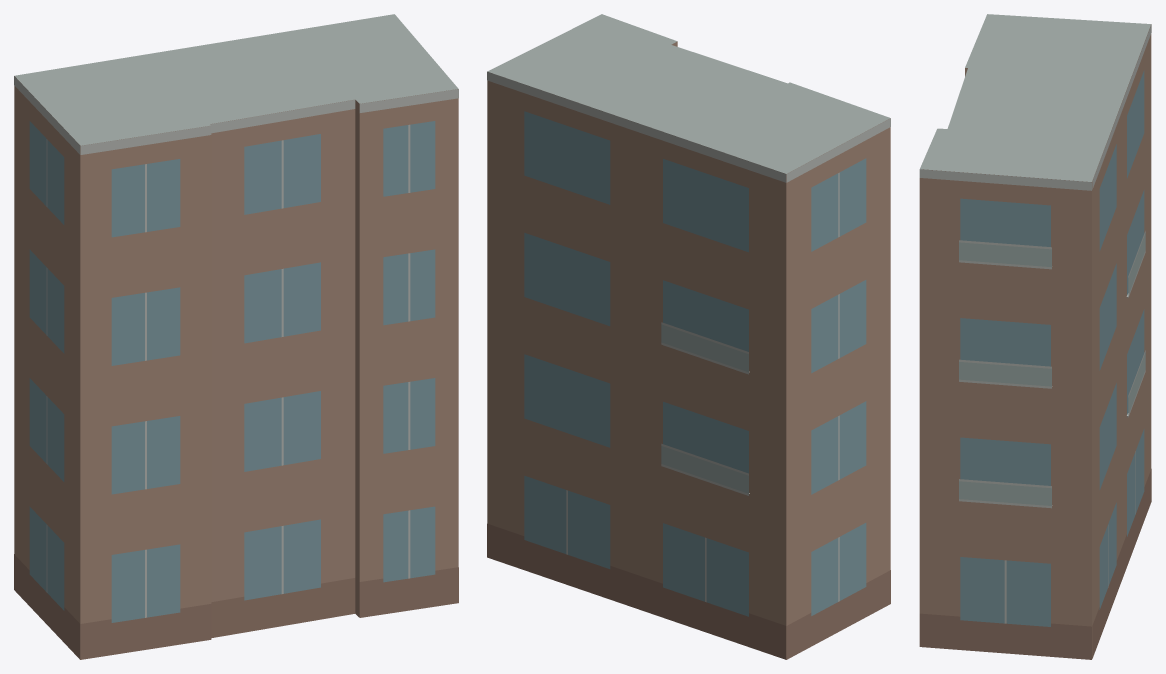
Rendered from survey-upis-32931777.glb.
3 views of the same model, side by side, from view 1: azimuth 30°, elevation 25°; view 2: azimuth 150°, elevation 25°; view 3: azimuth 270°, elevation 25° (orthographic). The views are drawn at different scales.
Parts seen in each view (by area): view 1: survey-upis-32931777.tmp; view 2: survey-upis-32931777.tmp; view 3: survey-upis-32931777.tmp.
Part boxes in pixels (x1,y1,x2,y2): survey-upis-32931777.tmp: (14,14,458,659); survey-upis-32931777.tmp: (487,14,890,659); survey-upis-32931777.tmp: (919,14,1151,659).
Size of the model in its own units: 10.05 by 13.3 by 5.86.
